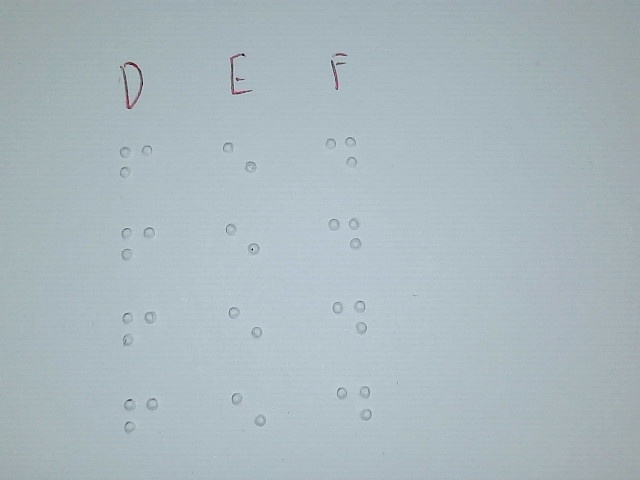D: (322, 124, 360, 190), (326, 205, 364, 271), (331, 288, 369, 354), (335, 372, 373, 438)
E: (221, 129, 259, 197), (224, 211, 262, 279), (227, 293, 265, 361), (230, 380, 268, 448)
F: (118, 133, 155, 198), (120, 214, 157, 279), (121, 299, 158, 364), (123, 383, 160, 448)
